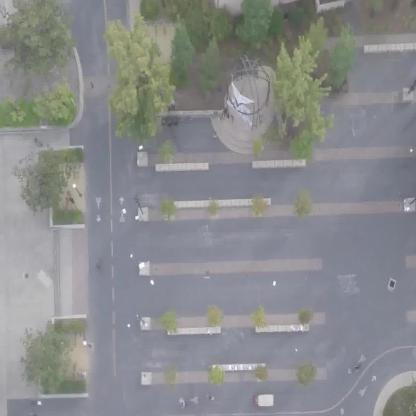Bicyclist: (92, 255, 105, 276), (175, 394, 190, 410), (348, 360, 365, 374), (205, 390, 215, 406)
Car: (250, 391, 279, 410)
